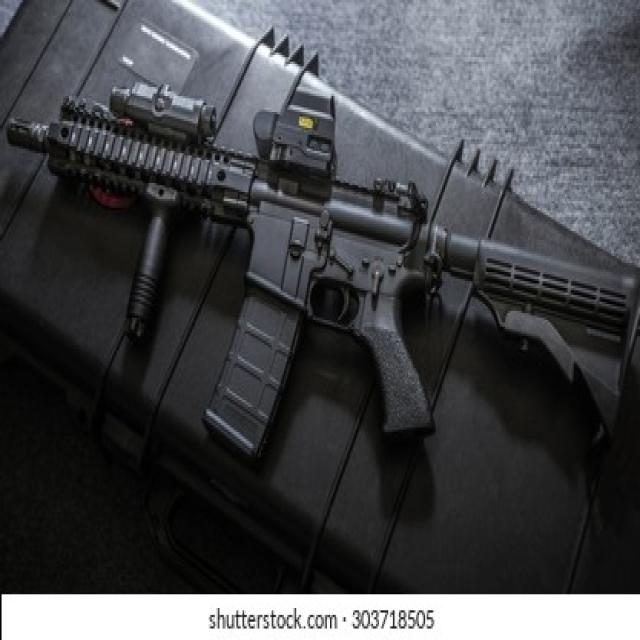Rifle: (5, 71, 638, 455)
